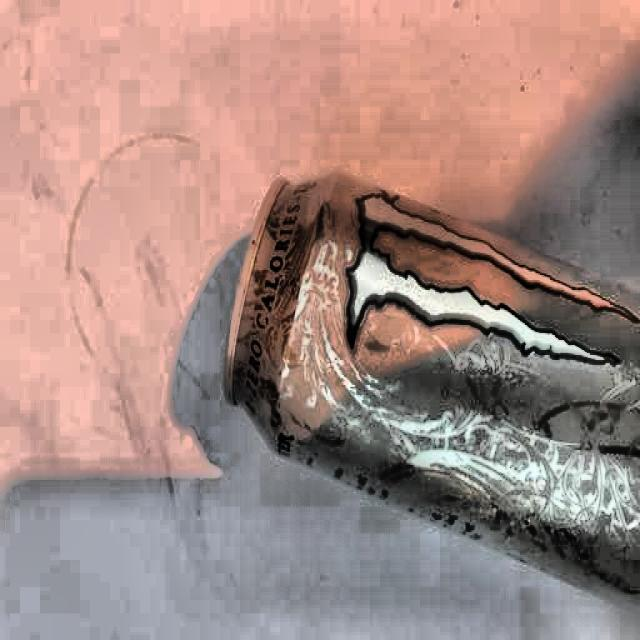metal: (217, 172, 640, 615)
